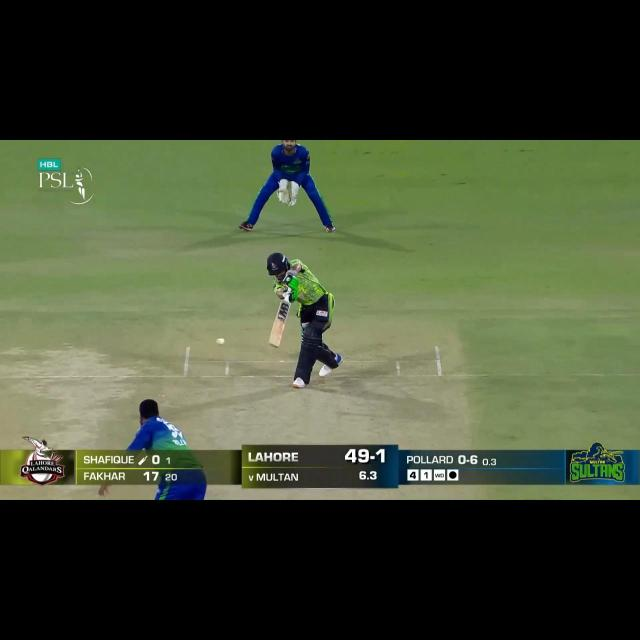bat: (267, 294, 291, 350)
toe: (266, 334, 283, 349)
